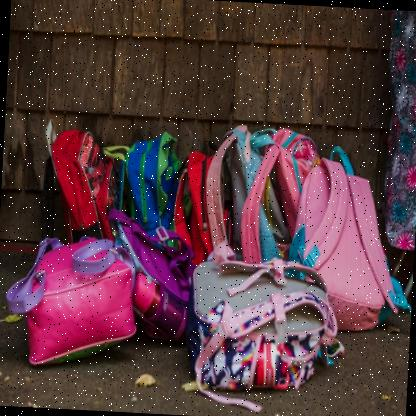bag: (177, 252, 350, 402), (284, 158, 410, 335), (12, 228, 144, 374), (39, 119, 125, 243), (114, 127, 192, 252), (167, 143, 240, 268)
